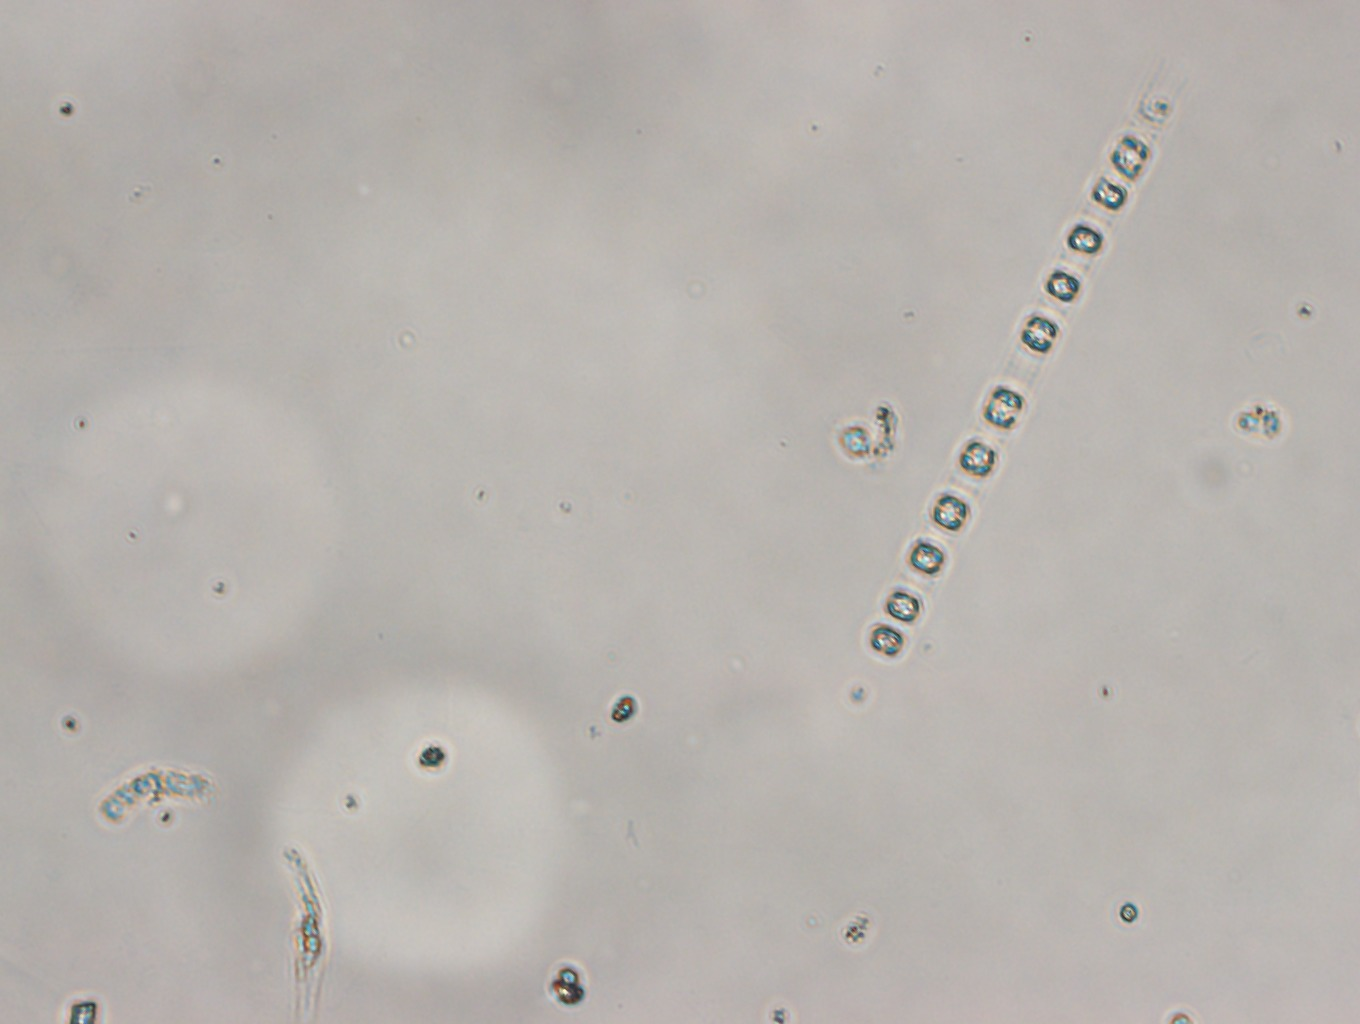skeletonema: (856, 77, 1172, 653)
